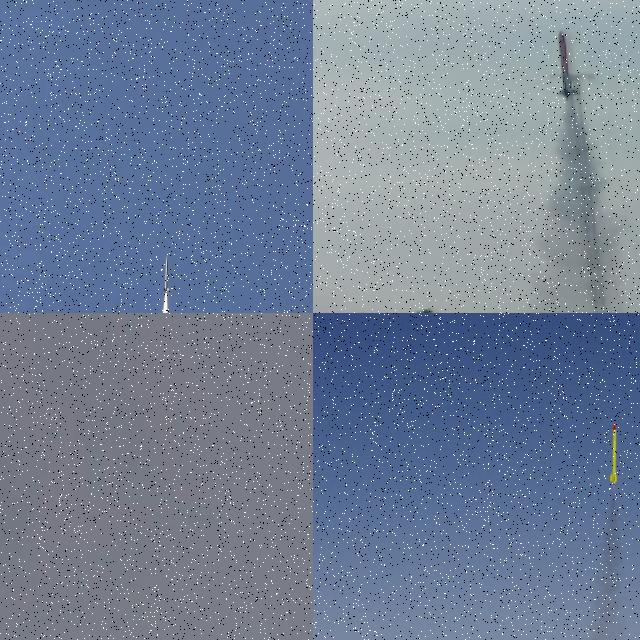Rocket: (557, 31, 576, 100), (608, 420, 618, 486), (163, 256, 169, 296)
